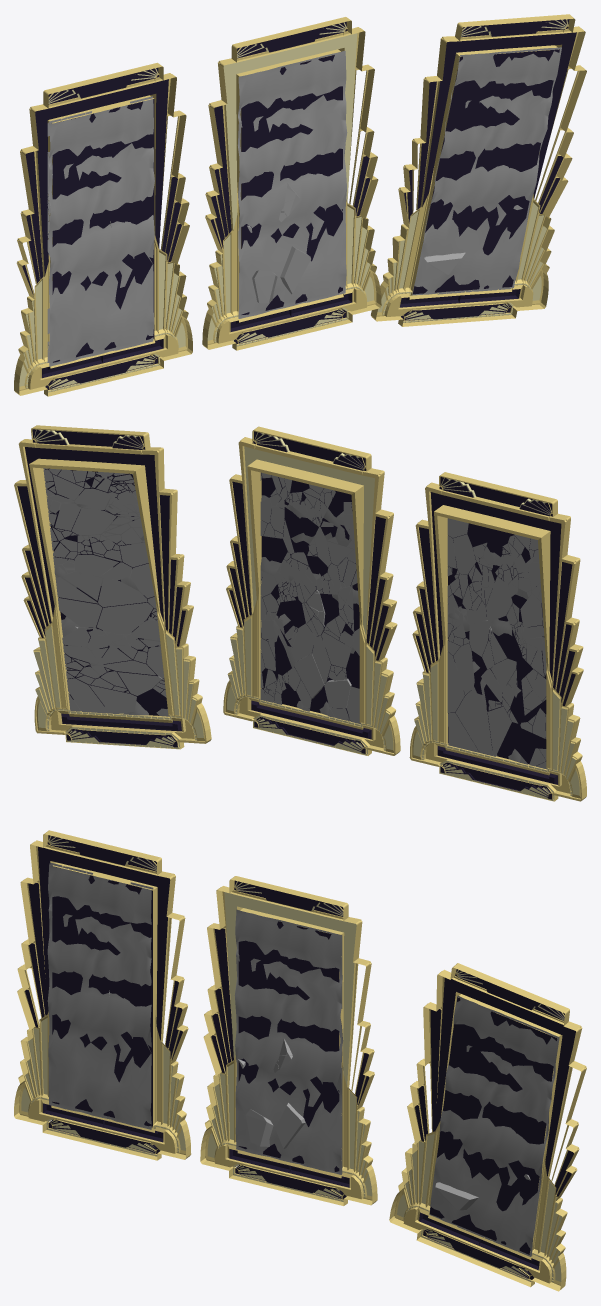
File: Bathroom Mirrors.fbx
3 renders of one model, top to bottom at view 1: azimuth 30°, elevation 25°; view 2: azimuth 150°, elevation 25°; view 3: azimuth 330°, elevation 25°, orthographic.
Parts seen in each view (by area): view 1: MasterBathroom_SinkMirrorLeft.008_cell.037, MasterBathroom_SinkMirrorLeft.005_cell.078, MasterBathroom_SinkMirrorLeft.002_cell.044; view 2: MasterBathroom_SinkMirrorLeft.002_cell.044, MasterBathroom_SinkMirrorLeft.005_cell.078, MasterBathroom_SinkMirrorLeft.008_cell.037; view 3: MasterBathroom_SinkMirrorLeft.005_cell.078, MasterBathroom_SinkMirrorLeft.008_cell.037, MasterBathroom_SinkMirrorLeft.002_cell.044.
Part boxes in pixels (x1,y1,x2,y2): MasterBathroom_SinkMirrorLeft.008_cell.037: (14,62,192,396); MasterBathroom_SinkMirrorLeft.005_cell.078: (202,17,381,350); MasterBathroom_SinkMirrorLeft.002_cell.044: (371,14,586,326); MasterBathroom_SinkMirrorLeft.002_cell.044: (14,425,211,749); MasterBathroom_SinkMirrorLeft.005_cell.078: (223,426,400,755); MasterBathroom_SinkMirrorLeft.008_cell.037: (409,472,586,801); MasterBathroom_SinkMirrorLeft.005_cell.078: (200,876,377,1205); MasterBathroom_SinkMirrorLeft.008_cell.037: (14,830,191,1160); MasterBathroom_SinkMirrorLeft.002_cell.044: (389,963,586,1291).
Size of the model in its own units: 409 by 240 by 22.75.
